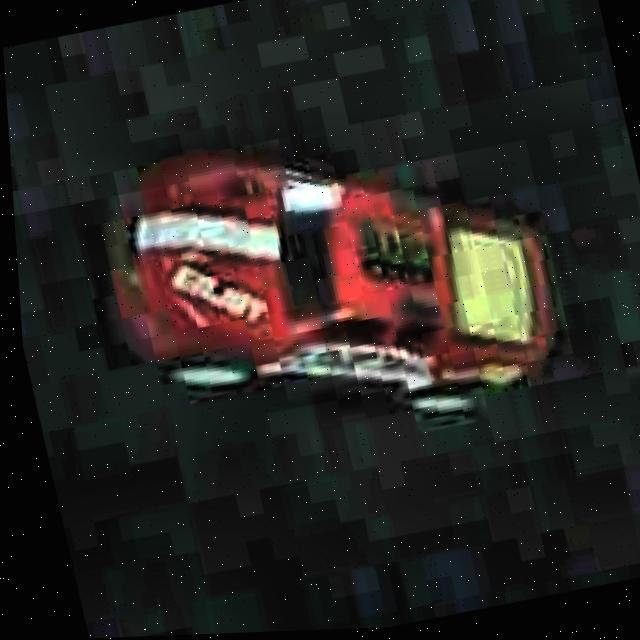car: (66, 79, 601, 481)
